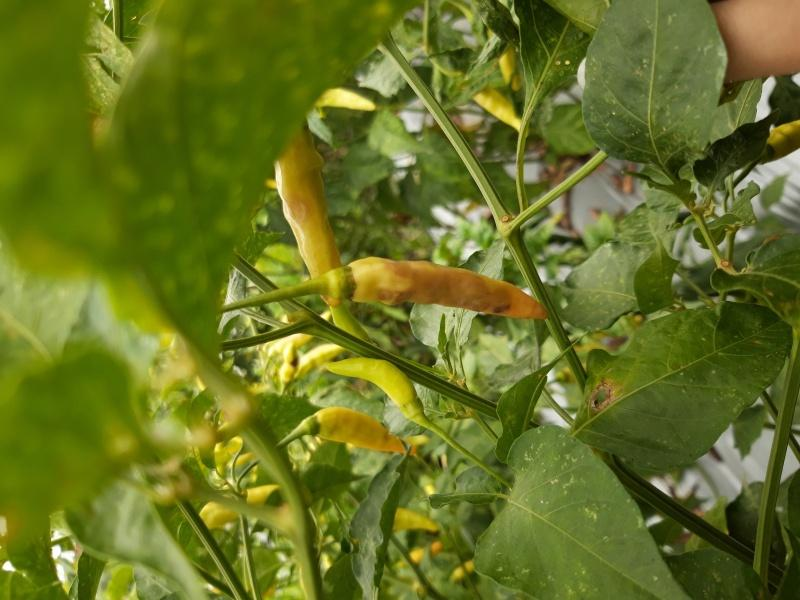antraknosa: (277, 120, 348, 305)
cabai_normal: (322, 358, 421, 424), (313, 405, 410, 458)
lalat_buah: (352, 258, 546, 323)
